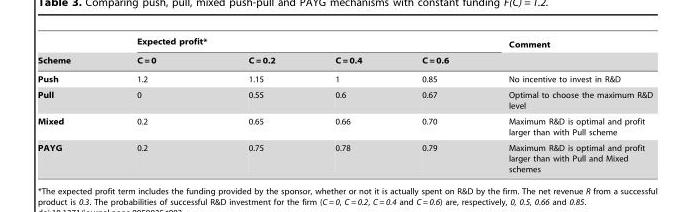table: (37, 36, 652, 173)
table column: (478, 36, 652, 173), (201, 36, 304, 173), (103, 36, 201, 173), (304, 36, 391, 173), (391, 36, 478, 173), (37, 36, 103, 173)
table column header: (37, 36, 652, 69)
table row: (37, 139, 652, 173), (37, 86, 652, 113), (37, 113, 652, 139), (37, 52, 652, 69), (37, 69, 652, 86), (37, 36, 652, 52)
table spanning cell: (103, 36, 478, 52), (478, 36, 652, 69), (37, 36, 103, 69)
